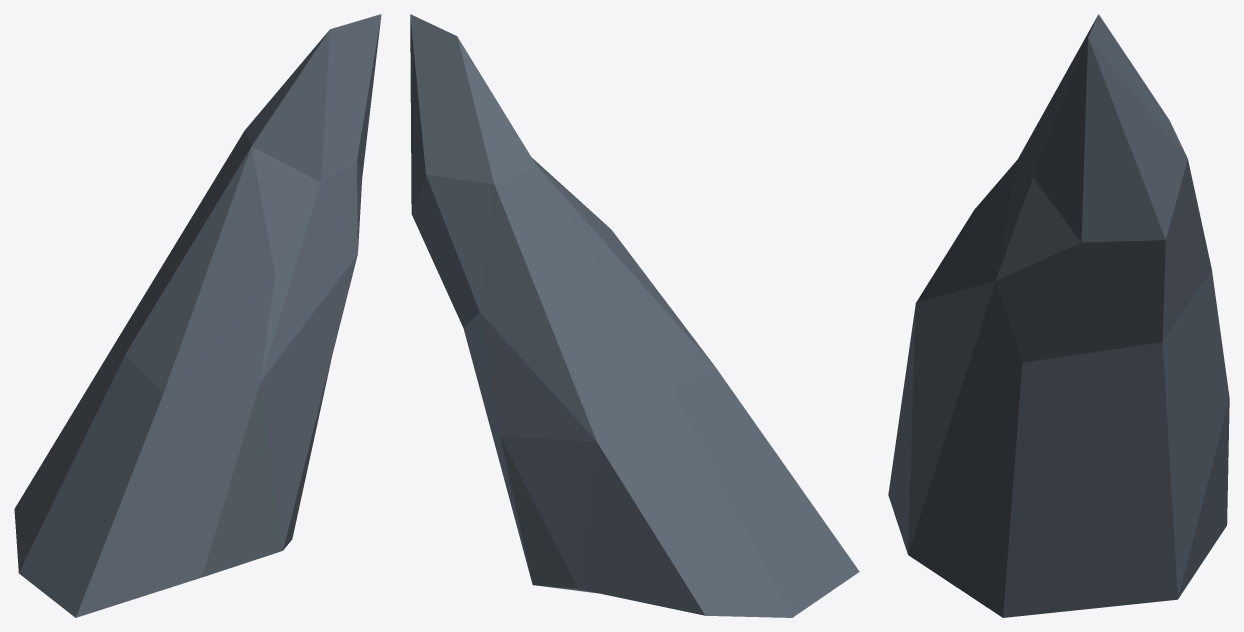
The model's file is Rock_Sharp_m_14.fbx.
The picture shows the model from 3 angles, left to right: view 1: azimuth 30°, elevation 25°; view 2: azimuth 150°, elevation 25°; view 3: azimuth 270°, elevation 25°; orthographic projection. The views are drawn at different scales.
Parts seen in each view (by area): view 1: Rock_Sharp_m_14; view 2: Rock_Sharp_m_14; view 3: Rock_Sharp_m_14.
Boxes of the visible parts, x1,y1,x2,y2 form: Rock_Sharp_m_14: (14, 14, 381, 617); Rock_Sharp_m_14: (410, 14, 859, 617); Rock_Sharp_m_14: (888, 14, 1229, 617).
Size of the model in its own units: 1.58 by 1.97 by 0.9194.
